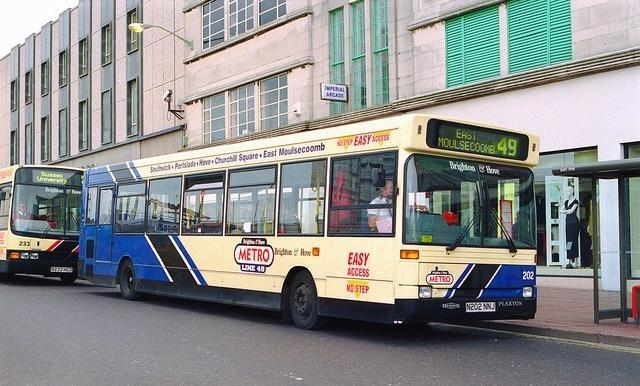bus: (73, 116, 543, 330), (0, 168, 80, 286)
